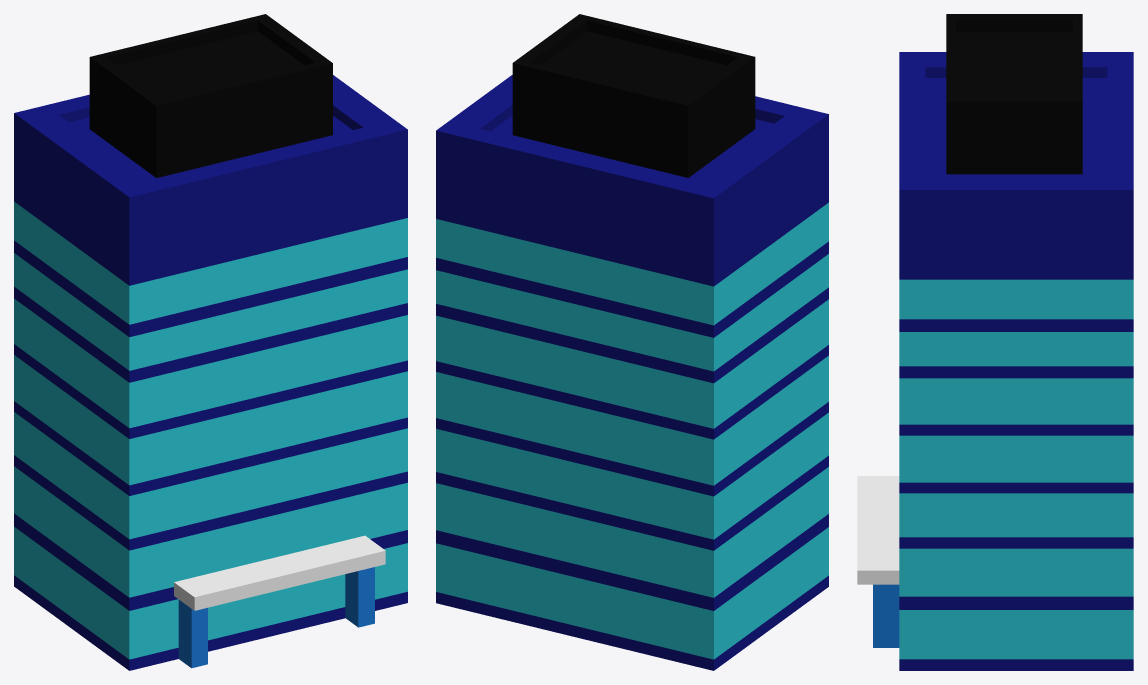
Rendered from lowploybuilding3.FBX.
3 views of the same model, side by side, from view 1: azimuth 30°, elevation 25°; view 2: azimuth 150°, elevation 25°; view 3: azimuth 270°, elevation 25° (orthographic).
Visible parts, largest first — view 1: Box001, Box005, Box002, Box003, Box004; view 2: Box001, Box005; view 3: Box001, Box005, Box002, Box004.
Part boxes in pixels (left/top/right/bottom): Box001: left=14, top=75, right=407, bottom=670; Box005: left=89, top=14, right=332, bottom=177; Box002: left=174, top=535, right=385, bottom=610; Box003: left=178, top=599, right=207, bottom=668; Box004: left=345, top=567, right=374, bottom=627; Box001: left=436, top=75, right=828, bottom=670; Box005: left=512, top=14, right=755, bottom=177; Box001: left=899, top=52, right=1133, bottom=670; Box005: left=946, top=14, right=1082, bottom=174; Box002: left=857, top=476, right=899, bottom=584; Box004: left=873, top=584, right=899, bottom=647.
Bounding box in the file's own units: 137 × 252 × 116.
